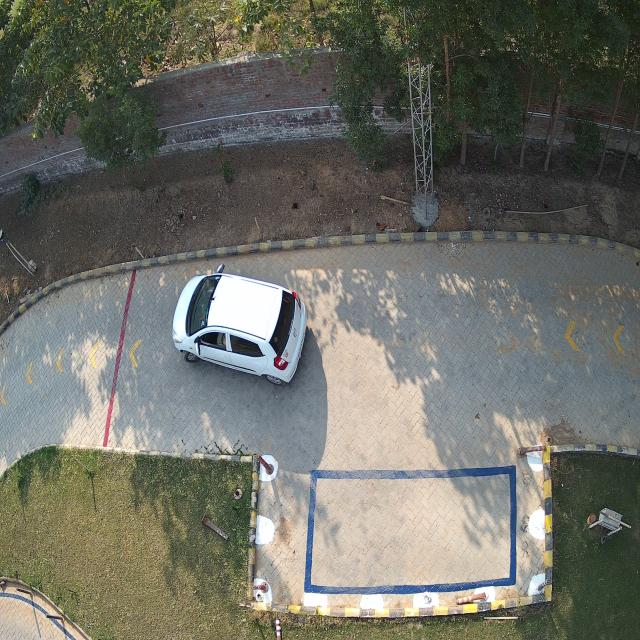car: (172, 267, 306, 383)
